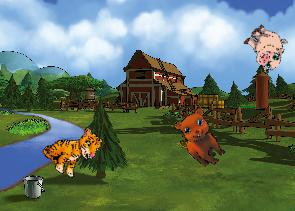bear: (167, 102, 237, 172)
pig: (237, 19, 293, 75)
tiger: (38, 114, 106, 184)
